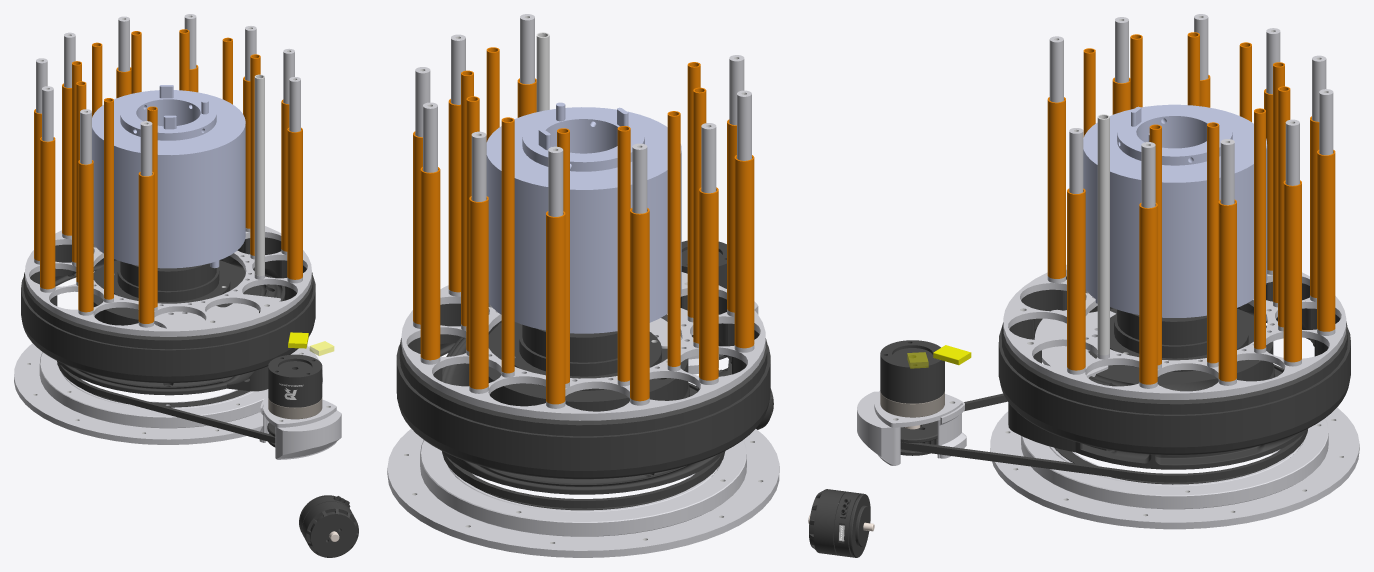
The model's file is FeedingSystemRender (1).glb.
3 views of the same model, side by side, from view 1: azimuth 30°, elevation 25°; view 2: azimuth 150°, elevation 25°; view 3: azimuth 270°, elevation 25° (orthographic). The views are drawn at different scales.
Parts seen in each view (by area): view 1: SlipringHero2023Outer-1, Hero_Mk1_FeedingSystem_BearingStandoff-23, Hero_Mk1_FeedingSystem_AgitatorMk3-2, Hero_Mk1_FeedingSystem_BallSlotPlate-1, Hero_Mk1_FeedingSystem_BottomSupportPlate-2, Hero_Mk1_FeedingSystem_8inLazySusan-3, SlipringHero2023Inner-1, RoboMaster M3508 P19 Brushless DC Gear Motor(2)^RM3508-1/2^R (×2), RoboMaster M3508 P19 Brushless DC Gear Motor(2)^RM3508-1/1^R, Hero_Mk1_FeedingSystem_OuterCFRod-3, Hero_Mk1_FeedingSystem_OuterCFRod-12, Hero_Mk1_FeedingSystem_OuterCFRod-5 (+31 smaller); view 2: Hero_Mk1_FeedingSystem_BearingStandoff-23, SlipringHero2023Outer-1, Hero_Mk1_FeedingSystem_BottomSupportPlate-2, Hero_Mk1_FeedingSystem_AgitatorMk3-2, Hero_Mk1_FeedingSystem_BallSlotPlate-1, Hero_Mk1_FeedingSystem_8inLazySusan-3, SlipringHero2023Inner-1, Hero_Mk1_FeedingSystem_OuterCFRod-9, Hero_Mk1_FeedingSystem_OuterCFRod-4, Hero_Mk1_FeedingSystem_OuterCFRod-6, Hero_Mk1_FeedingSystem_OuterCFRod-8, Hero_Mk1_FeedingSystem_OuterCFRod-5 (+29 smaller); view 3: Hero_Mk1_FeedingSystem_BearingStandoff-23, SlipringHero2023Outer-1, Hero_Mk1_FeedingSystem_BottomSupportPlate-2, Hero_Mk1_FeedingSystem_AgitatorMk3-2, Hero_Mk1_FeedingSystem_BallSlotPlate-1, Hero_Mk1_FeedingSystem_8inLazySusan-3, RoboMaster M3508 P19 Brushless DC Gear Motor(2)^RM3508-1/2^R (×2), SlipringHero2023Inner-1, Hero_Mk1_FeedingSystem_AgitatorBelt-1, RoboMaster M3508 P19 Brushless DC Gear Motor(2)^RM3508-1/1^R, Hero_Mk1_FeedingSystem_OuterCFRod-10, Hero_Mk1_FeedingSystem_OuterCFRod-12 (+32 smaller).
Boxes of the visible parts, x1,y1,x2,y2 form: SlipringHero2023Outer-1: (92,90,245,268); Hero_Mk1_FeedingSystem_BearingStandoff-23: (21,237,315,382); Hero_Mk1_FeedingSystem_AgitatorMk3-2: (57,260,285,395); Hero_Mk1_FeedingSystem_BallSlotPlate-1: (25,226,311,336); Hero_Mk1_FeedingSystem_BottomSupportPlate-2: (14,343,322,444); Hero_Mk1_FeedingSystem_8inLazySusan-3: (39,352,295,428); SlipringHero2023Inner-1: (120,85,216,140); RoboMaster M3508 P19 Brushless DC Gear Motor(2)^RM3508-1/2^R (×2): (268,354,322,419); RoboMaster M3508 P19 Brushless DC Gear Motor(2)^RM3508-1/1^R: (299,495,358,557); Hero_Mk1_FeedingSystem_OuterCFRod-3: (138,172,154,323); Hero_Mk1_FeedingSystem_OuterCFRod-12: (287,127,302,279); Hero_Mk1_FeedingSystem_OuterCFRod-5: (40,137,55,289); Hero_Mk1_FeedingSystem_BearingStandoff-23: (396,295,770,479); SlipringHero2023Outer-1: (486,107,681,333); Hero_Mk1_FeedingSystem_BottomSupportPlate-2: (387,428,779,557); Hero_Mk1_FeedingSystem_AgitatorMk3-2: (442,320,724,494); Hero_Mk1_FeedingSystem_BallSlotPlate-1: (401,272,765,420); Hero_Mk1_FeedingSystem_8inLazySusan-3: (420,440,746,536); SlipringHero2023Inner-1: (522,102,644,171); Hero_Mk1_FeedingSystem_OuterCFRod-9: (420,167,440,360); Hero_Mk1_FeedingSystem_OuterCFRod-4: (734,155,754,348); Hero_Mk1_FeedingSystem_OuterCFRod-6: (630,208,649,401); Hero_Mk1_FeedingSystem_OuterCFRod-8: (469,196,488,389); Hero_Mk1_FeedingSystem_OuterCFRod-5: (699,187,718,380); Hero_Mk1_FeedingSystem_BearingStandoff-23: (998,276,1350,455); SlipringHero2023Outer-1: (1083,104,1267,317); Hero_Mk1_FeedingSystem_BottomSupportPlate-2: (990,407,1359,529); Hero_Mk1_FeedingSystem_AgitatorMk3-2: (1008,308,1307,469); Hero_Mk1_FeedingSystem_BallSlotPlate-1: (1003,264,1346,399); Hero_Mk1_FeedingSystem_8inLazySusan-3: (1021,418,1328,509); RoboMaster M3508 P19 Brushless DC Gear Motor(2)^RM3508-1/2^R (×2): (880,340,944,417); SlipringHero2023Inner-1: (1117,106,1232,165); Hero_Mk1_FeedingSystem_AgitatorBelt-1: (900,393,1307,482); RoboMaster M3508 P19 Brushless DC Gear Motor(2)^RM3508-1/1^R: (808,489,874,557); Hero_Mk1_FeedingSystem_OuterCFRod-10: (1218,199,1236,381); Hero_Mk1_FeedingSystem_OuterCFRod-12: (1067,188,1085,370).
Size of the model in its own units: 0.2399 by 0.3293 by 0.358.
